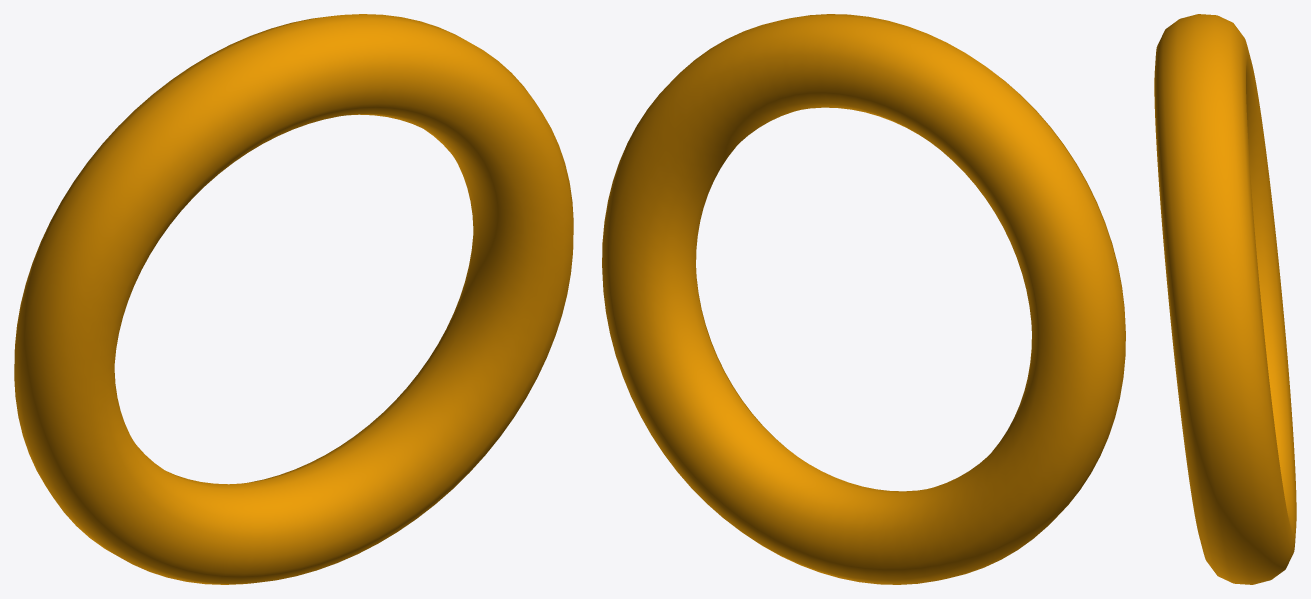
The model's file is ring.gltf.
3 views of the same model, side by side, from view 1: azimuth 30°, elevation 25°; view 2: azimuth 150°, elevation 25°; view 3: azimuth 270°, elevation 25° (orthographic). The views are drawn at different scales.
Parts seen in each view (by area): view 1: ring; view 2: ring; view 3: ring.
Part boxes in pixels (x1,y1,x2,y2): ring: (14, 14, 573, 584); ring: (602, 14, 1125, 584); ring: (1154, 14, 1296, 584).
Size of the model in its own units: 1.46 by 1.45 by 0.3623.
